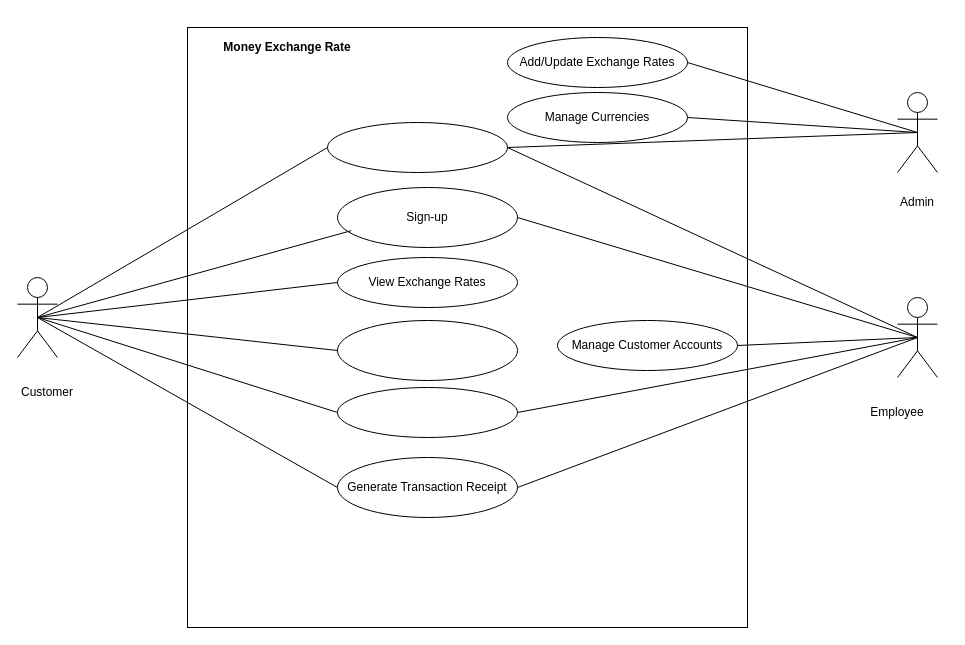
Image size: 965x645. Some labels were removed from this diagram. Here are the shapes that lost their labels. From the top down, the centre of each, then its label:
At [417,147]: "Login / Authenticate".
At [427,350]: "Request Currency Exchange (Buy/Sell)".
At [427,412]: "View Transaction History".
